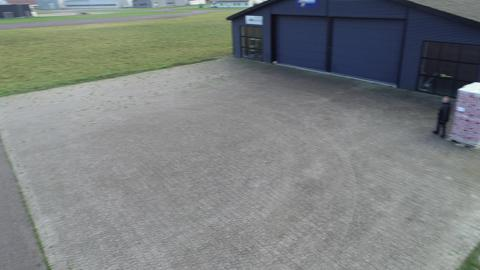RockwoolPallet: (448, 81, 480, 148)
